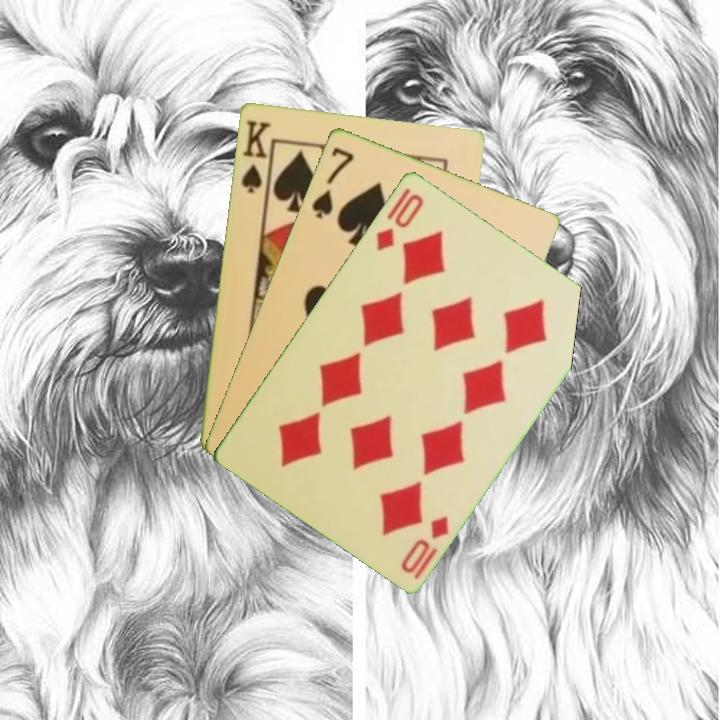10d: (372, 189, 427, 254), (397, 511, 452, 576)
7s: (308, 143, 357, 221)
Ks: (237, 116, 275, 198)
